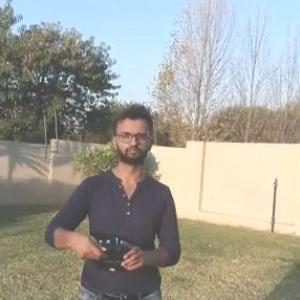follow: (41, 96, 187, 299)
